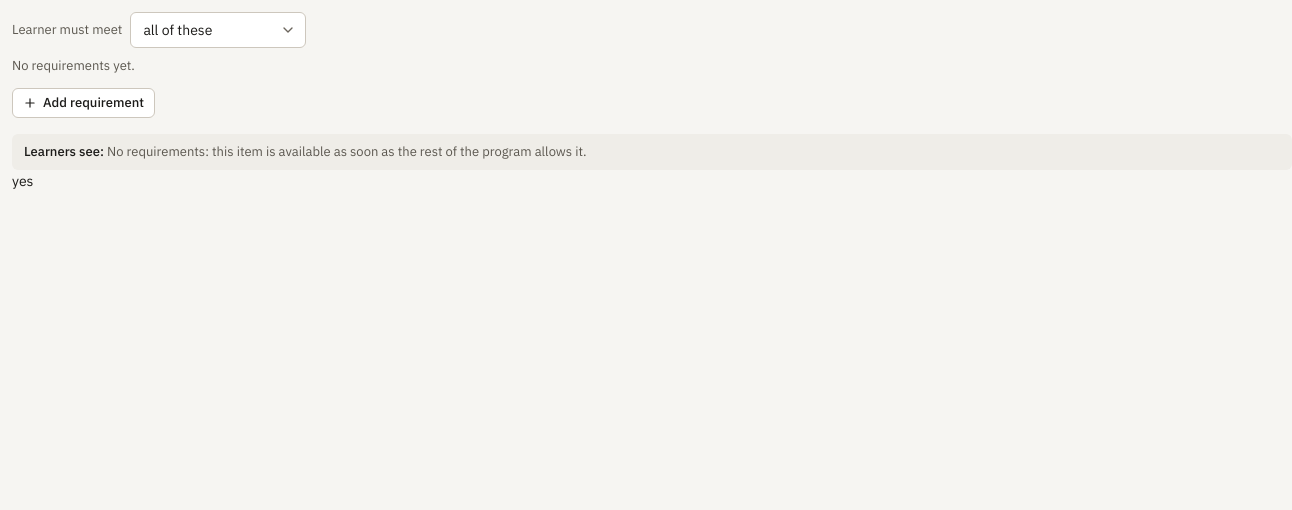
it: RuleEditor › offers lessons from the program tree and lets a requirement be removed
Click the button "Add requirement" at x=84, y=103, box [12,88,155,118]
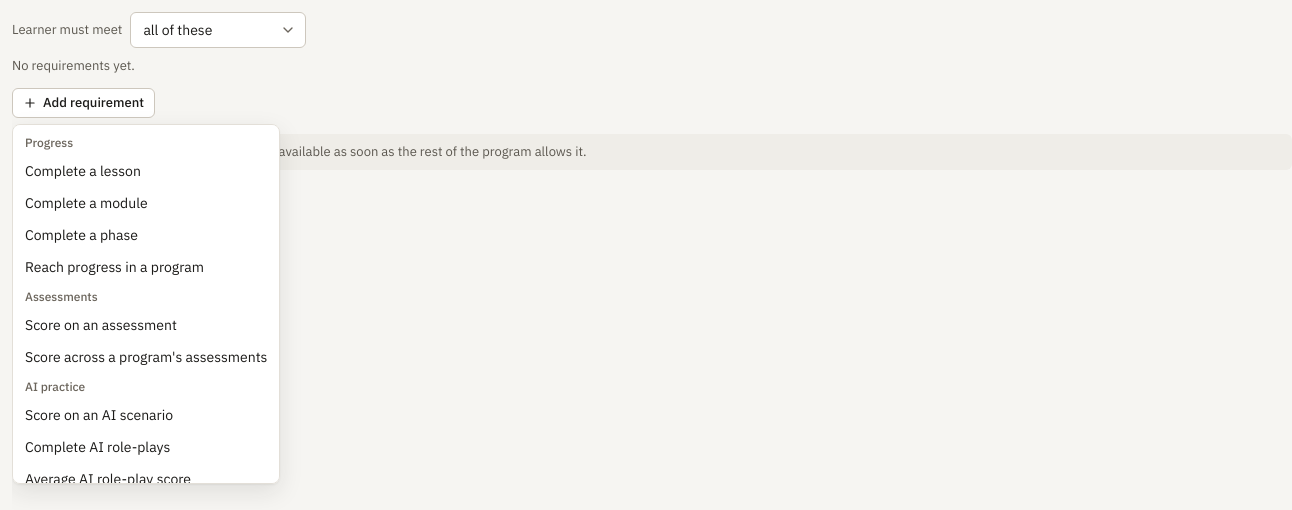
Click the menu item "Complete a lesson" at x=83, y=171, box [25,162,141,180]
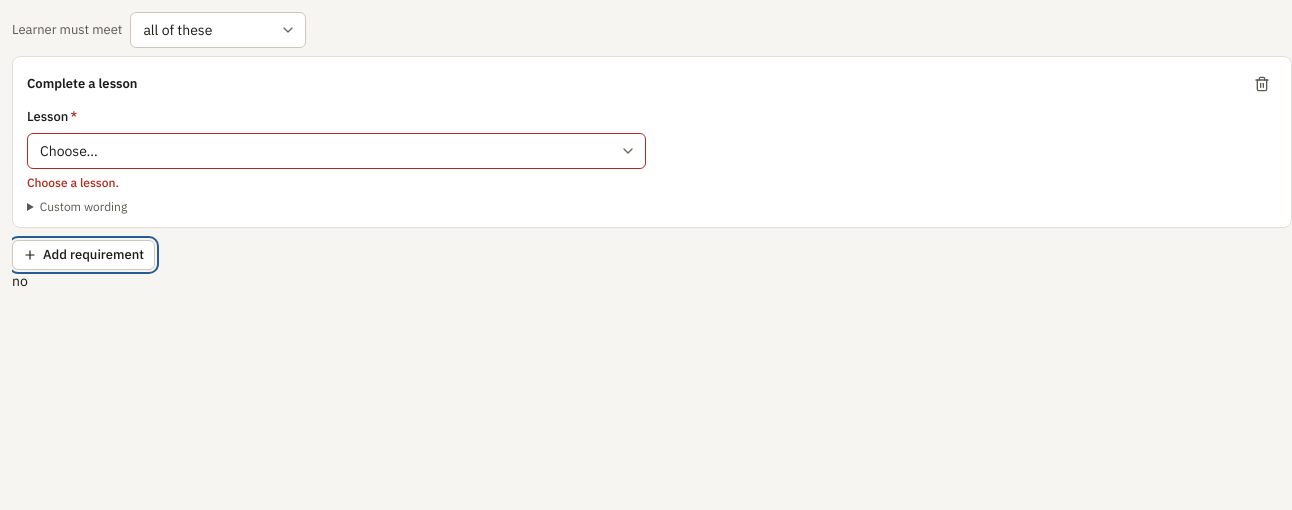
Click the button named "Remove requirement: Complete a lesson" at x=1262, y=84, box [1247,69,1277,99]
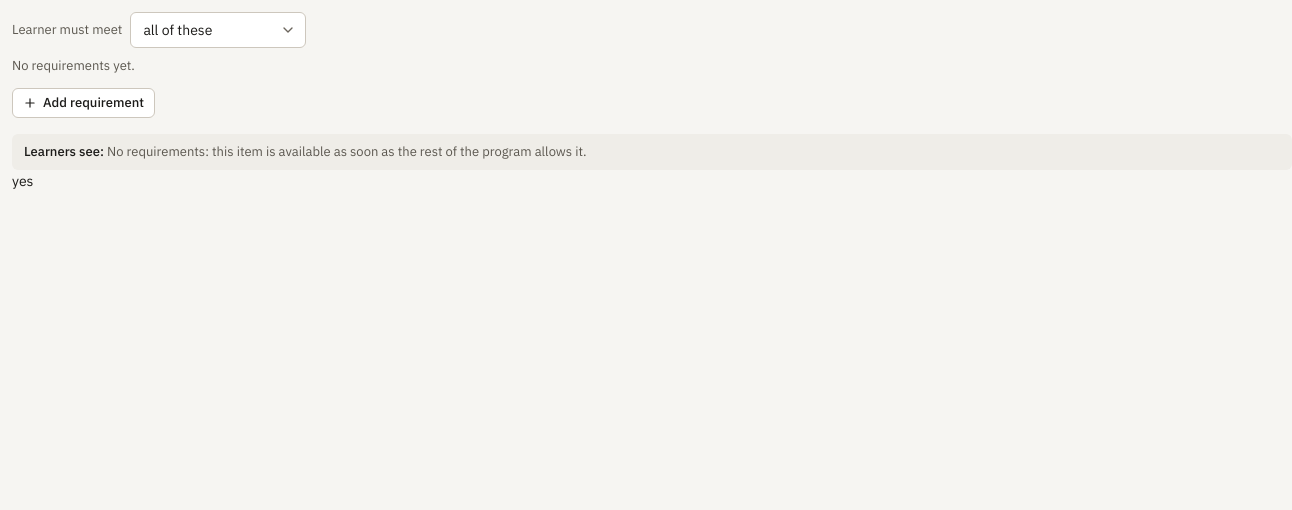
Now the text "No requirements yet." is shown, box [12,57,135,74]
